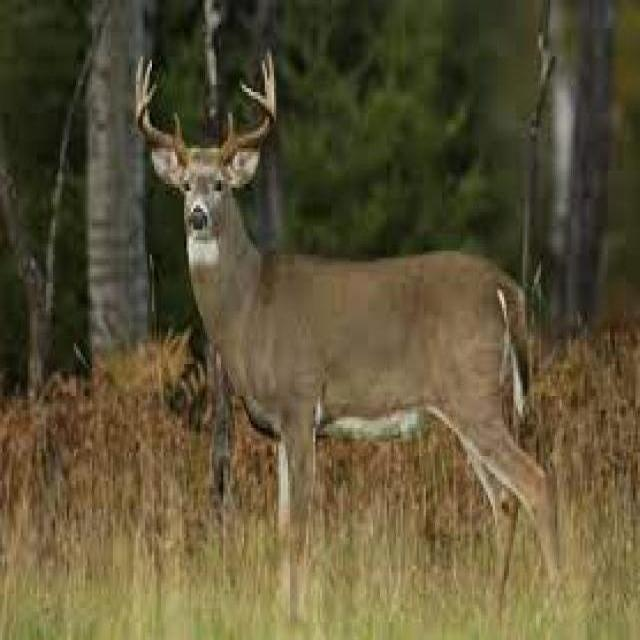deer: (132, 54, 590, 625)
